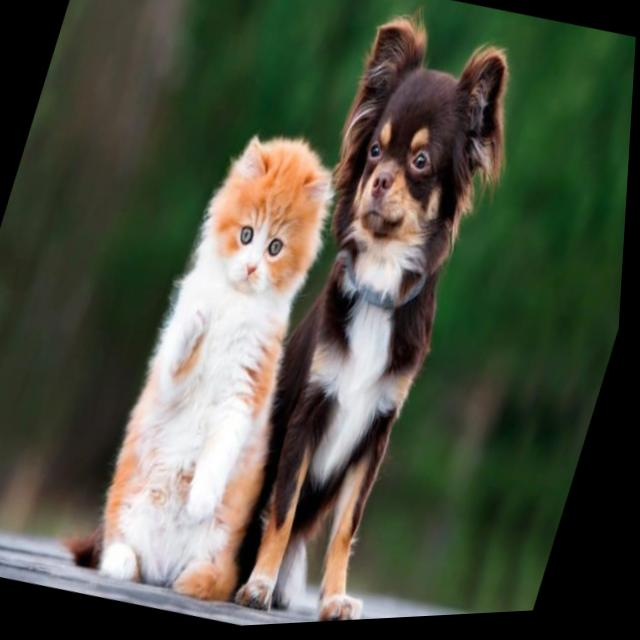Cat: (76, 110, 363, 628)
Dog: (212, 0, 610, 630)
